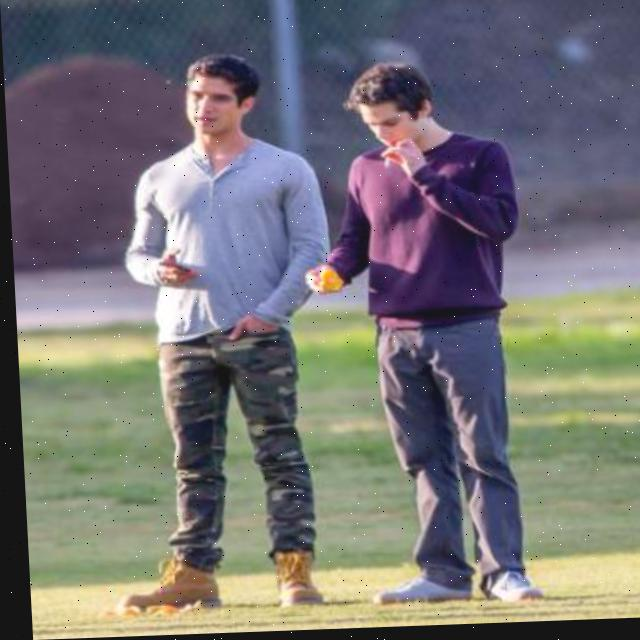cigarette: (380, 160, 390, 172)
